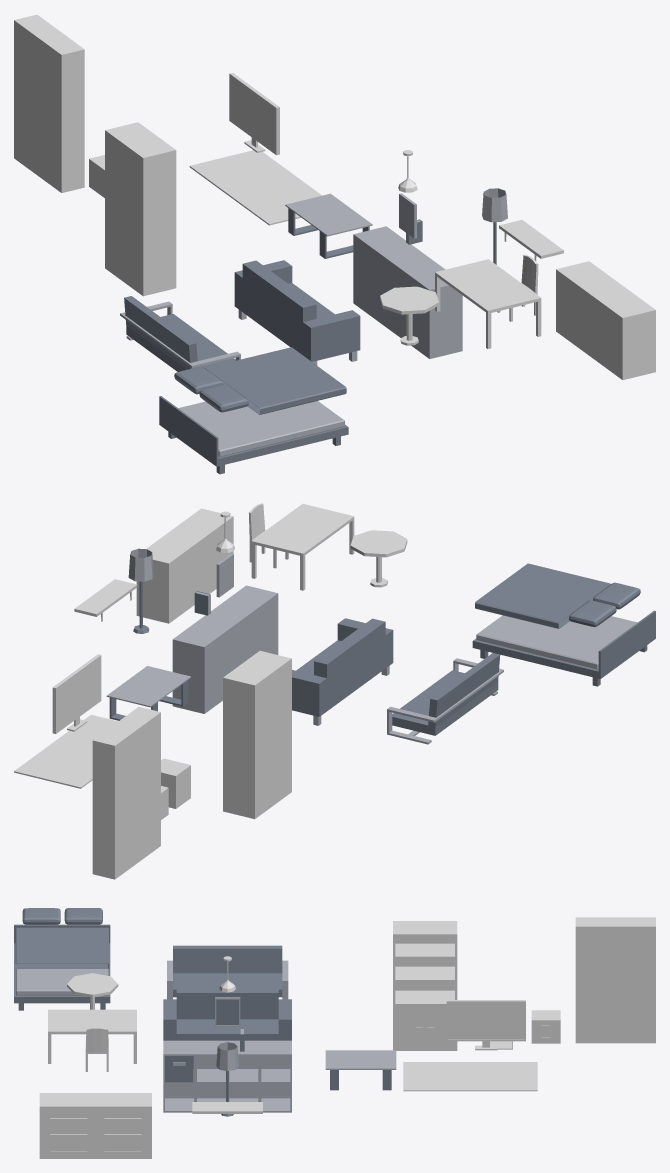
The model's file is Etagere.fbx.
3 views of the same model, one above another, from view 1: azimuth 30°, elevation 25°; view 2: azimuth 150°, elevation 25°; view 3: azimuth 270°, elevation 25° (orthographic). The views are drawn at different scales.
Visible parts, largest first — view 1: Bibliotheque, Armoire, Commode3, Meuble8cases, Lit, Canape, Couette, Tapis, Canape2, Table, TableBasse, TV (+4 smaller); view 2: Bibliotheque, Armoire, Meuble8cases, Lit, Commode3, Couette, Canape, Canape2, Table, Tapis, TV, TableBasse (+6 smaller); view 3: Armoire, Bibliotheque, Commode3, Meuble8cases, Canape, Couette, Canape2, Tapis, TV, Lit, Table, TableBasse (+7 smaller).
Boxes of the visible parts, x1=… form: Bibliotheque: x1=105, y1=122, x2=176, y2=296; Armoire: x1=14, y1=14, x2=84, y2=192; Commode3: x1=556, y1=261, x2=655, y2=379; Meuble8cases: x1=353, y1=226, x2=462, y2=358; Lit: x1=159, y1=396, x2=348, y2=474; Canape: x1=234, y1=260, x2=360, y2=365; Couette: x1=174, y1=347, x2=346, y2=414; Tapis: x1=189, y1=150, x2=321, y2=225; Canape2: x1=120, y1=296, x2=240, y2=371; Table: x1=435, y1=259, x2=541, y2=348; TableBasse: x1=285, y1=193, x2=372, y2=258; TV: x1=229, y1=73, x2=279, y2=155; Bibliotheque: x1=223, y1=651, x2=291, y2=819; Armoire: x1=92, y1=707, x2=160, y2=879; Meuble8cases: x1=172, y1=585, x2=278, y2=713; Lit: x1=472, y1=610, x2=655, y2=686; Commode3: x1=136, y1=508, x2=233, y2=623; Couette: x1=475, y1=563, x2=640, y2=628; Canape: x1=292, y1=618, x2=393, y2=725; Canape2: x1=387, y1=653, x2=503, y2=744; Table: x1=251, y1=503, x2=354, y2=590; Tapis: x1=14, y1=715, x2=118, y2=788; TV: x1=52, y1=654, x2=101, y2=733; TableBasse: x1=106, y1=666, x2=190, y2=720; Armoire: x1=575, y1=917, x2=655, y2=1043; Bibliotheque: x1=393, y1=921, x2=457, y2=1050; Commode3: x1=39, y1=1093, x2=151, y2=1158; Meuble8cases: x1=163, y1=1040, x2=291, y2=1112; Canape: x1=163, y1=987, x2=291, y2=1040; Couette: x1=15, y1=908, x2=108, y2=968; Canape2: x1=167, y1=945, x2=288, y2=999; Tapis: x1=403, y1=1062, x2=537, y2=1091; TV: x1=446, y1=1000, x2=525, y2=1050; Lit: x1=14, y1=924, x2=110, y2=1010; Table: x1=48, y1=1009, x2=136, y2=1063; TableBasse: x1=325, y1=1050, x2=396, y2=1090.
Bounding box in the file's own units: 2761 × 1016 × 3995.
